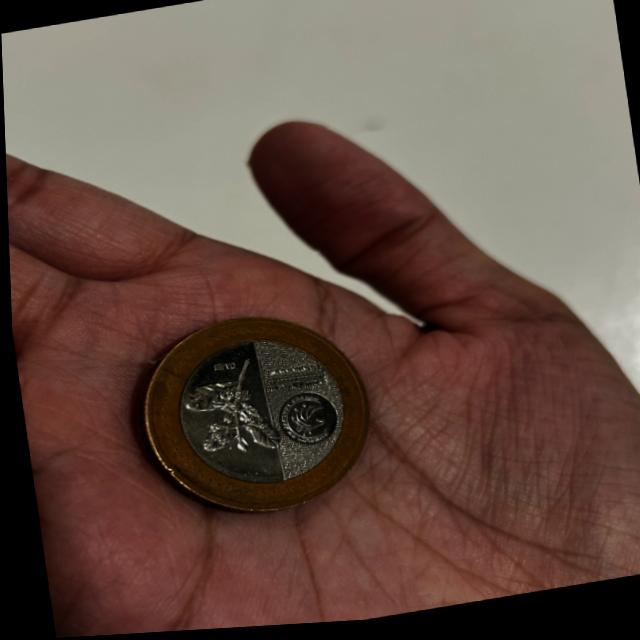20_New_Back: (175, 350, 286, 474)
